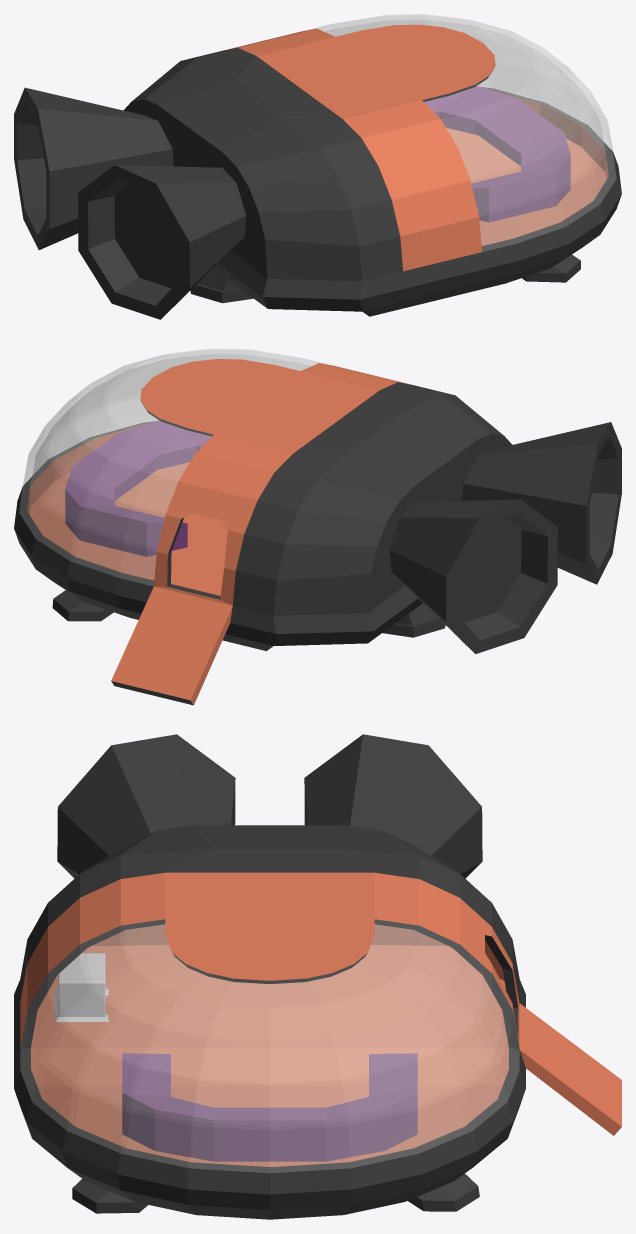
The model's file is Ship.glb.
The picture shows the model from 3 angles, top to bottom: view 1: azimuth 30°, elevation 25°; view 2: azimuth 150°, elevation 25°; view 3: azimuth 270°, elevation 25°; orthographic projection. The views are drawn at different scales.
Visible parts, largest first — view 1: vaisseau, controlpanel; view 2: vaisseau, controlpanel; view 3: vaisseau, controlpanel, ScienceTable.
Boxes of the visible parts, x1=… form: vaisseau: x1=14, y1=14, x2=621, y2=319; controlpanel: x1=424, y1=86, x2=570, y2=222; vaisseau: x1=14, y1=348, x2=621, y2=705; controlpanel: x1=65, y1=420, x2=211, y2=556; vaisseau: x1=14, y1=734, x2=621, y2=1219; controlpanel: x1=122, y1=1053, x2=417, y2=1161; ScienceTable: x1=54, y1=953, x2=108, y2=1021.
Bounding box in the file's own units: 15.89 × 5.32 × 13.07.
